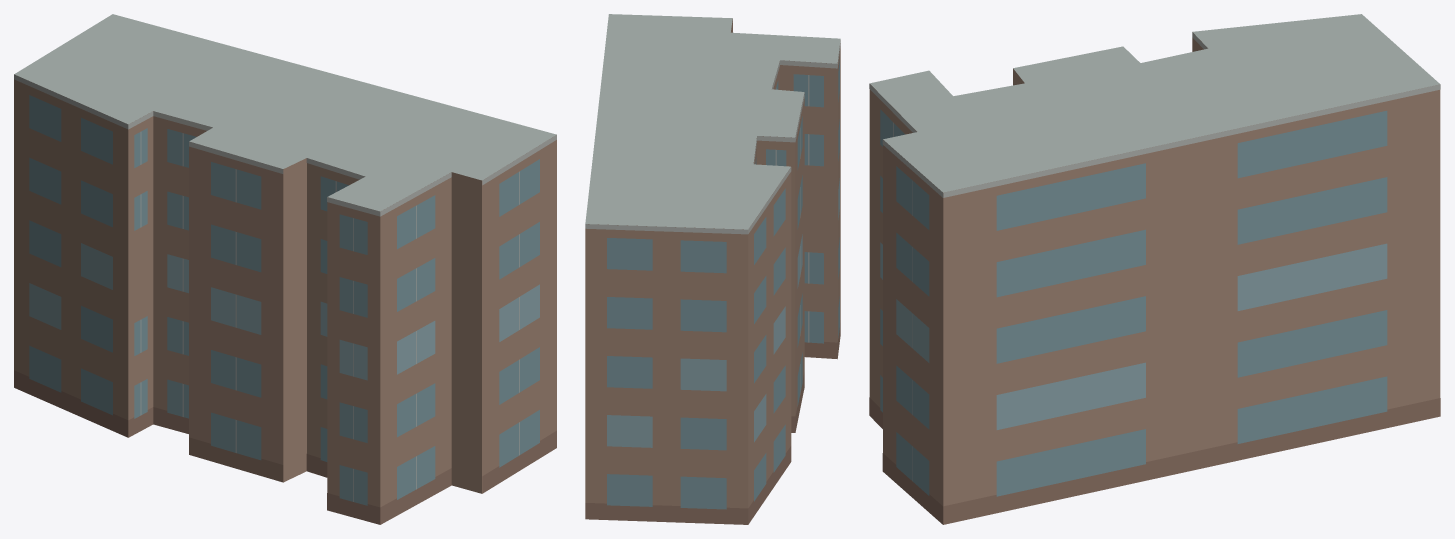
The model's file is survey-upis-32767442.glb.
The picture shows the model from 3 angles, left to right: view 1: azimuth 30°, elevation 25°; view 2: azimuth 150°, elevation 25°; view 3: azimuth 270°, elevation 25°; orthographic projection. The views are drawn at different scales.
Parts seen in each view (by area): view 1: survey-upis-32767442.tmp; view 2: survey-upis-32767442.tmp; view 3: survey-upis-32767442.tmp.
Part boxes in pixels (bbox=[...]): survey-upis-32767442.tmp: bbox=[14, 14, 556, 524]; survey-upis-32767442.tmp: bbox=[585, 14, 840, 524]; survey-upis-32767442.tmp: bbox=[869, 14, 1440, 524].
Size of the model in its own units: 17.37 by 15.05 by 23.45.
